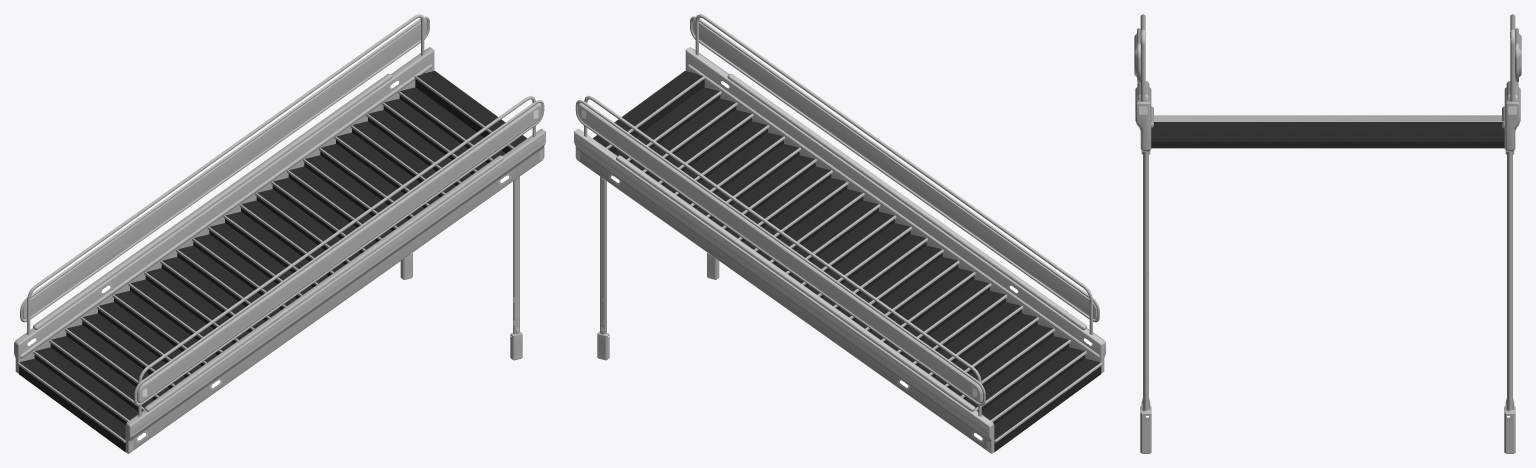
Rendered from SM_Stairs_5_Merged.fbx.
3 renders of one model, left to right at view 1: azimuth 30°, elevation 25°; view 2: azimuth 150°, elevation 25°; view 3: azimuth 270°, elevation 25°, orthographic. The views are drawn at different scales.
Visible parts, largest first — view 1: SM_Stairs_5_Merged_LOD0; view 2: SM_Stairs_5_Merged_LOD0; view 3: SM_Stairs_5_Merged_LOD0.
Part boxes in pixels (x1=…): SM_Stairs_5_Merged_LOD0: x1=14, y1=14, x2=545, y2=453; SM_Stairs_5_Merged_LOD0: x1=574, y1=14, x2=1105, y2=453; SM_Stairs_5_Merged_LOD0: x1=1134, y1=14, x2=1521, y2=453.
Size of the model in its own units: 1030 by 500 by 613.
